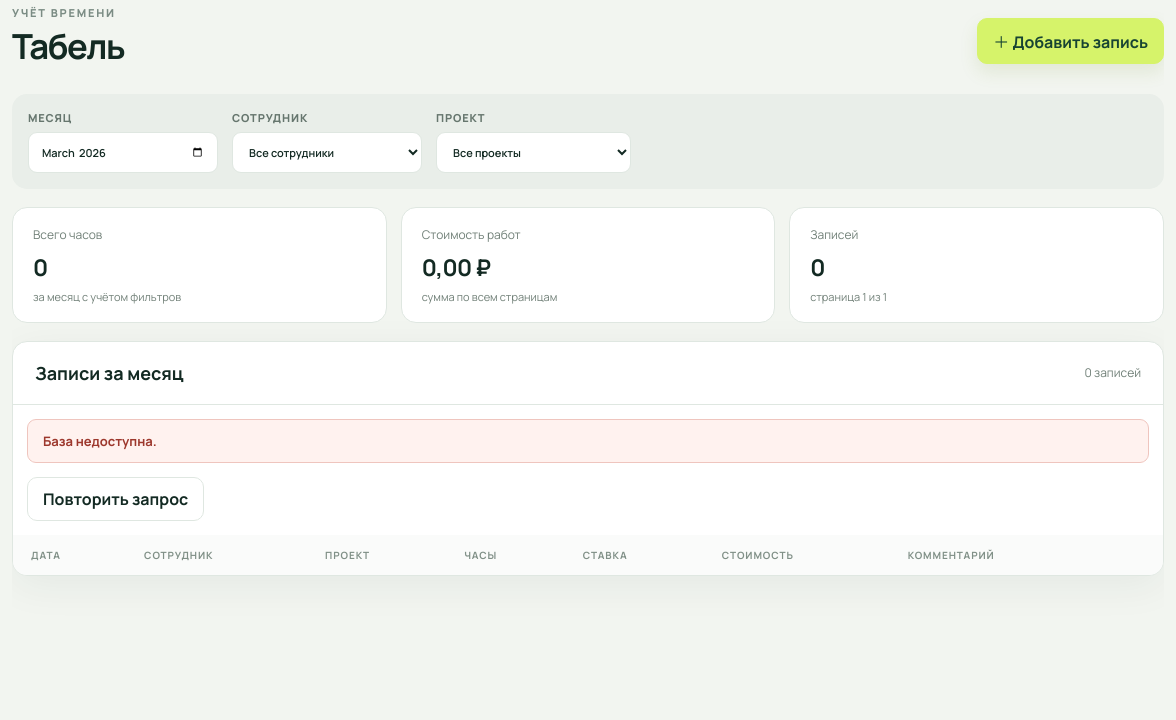
it: EntriesPage › shows the failure and lets the user retry it
expect the text "База недоступна." is shown: met, box [43,432,157,450]
Click the button "Повторить запрос".
click(116, 499)  # box [27,477,204,521]
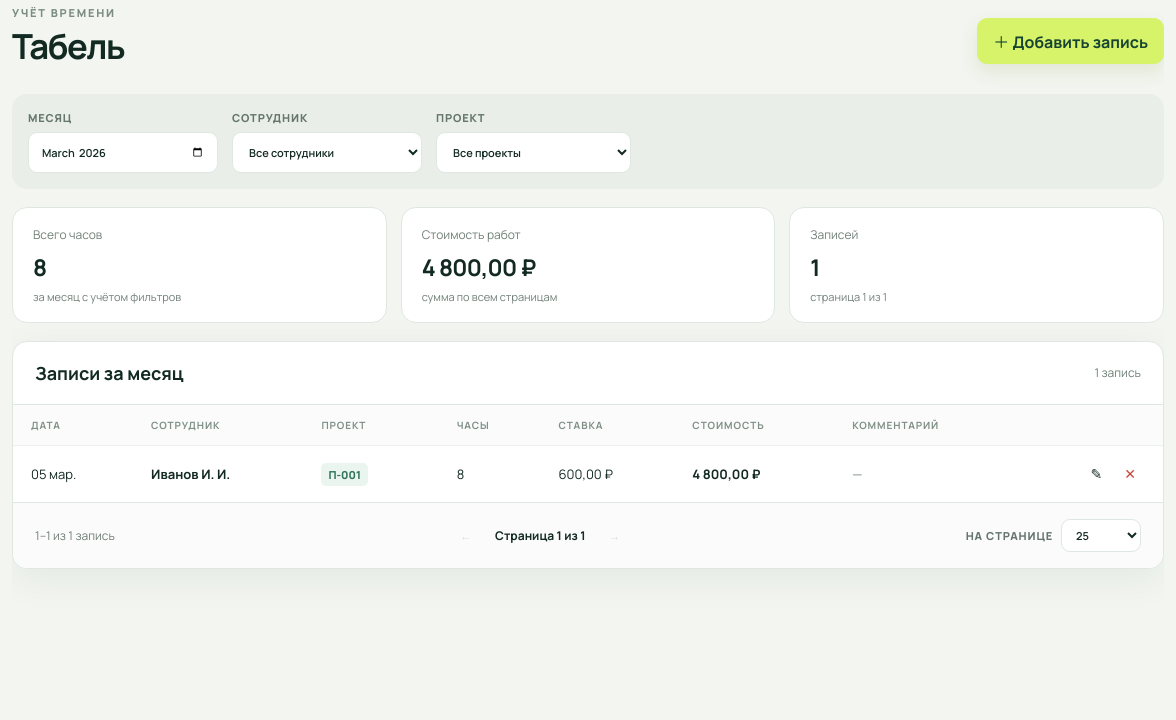
expect the text "Иванов И. И." is shown: met, box [151,465,230,483]
